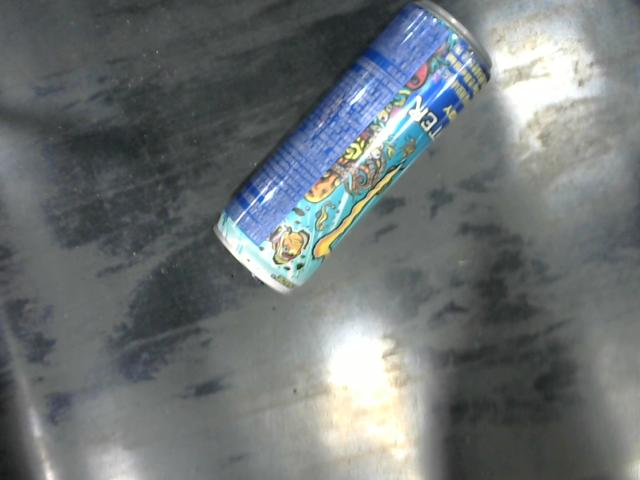can: (210, 0, 495, 298)
